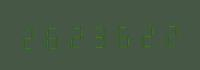six: (109, 19, 131, 49), (40, 21, 62, 50)
three: (86, 20, 108, 49)
two: (17, 21, 39, 51), (63, 20, 85, 50), (132, 19, 154, 49), (155, 19, 177, 48)
